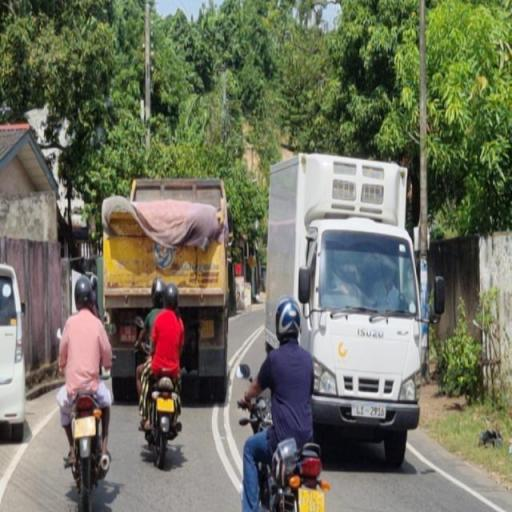double_white_line: (407, 441, 506, 512), (212, 405, 242, 491)
